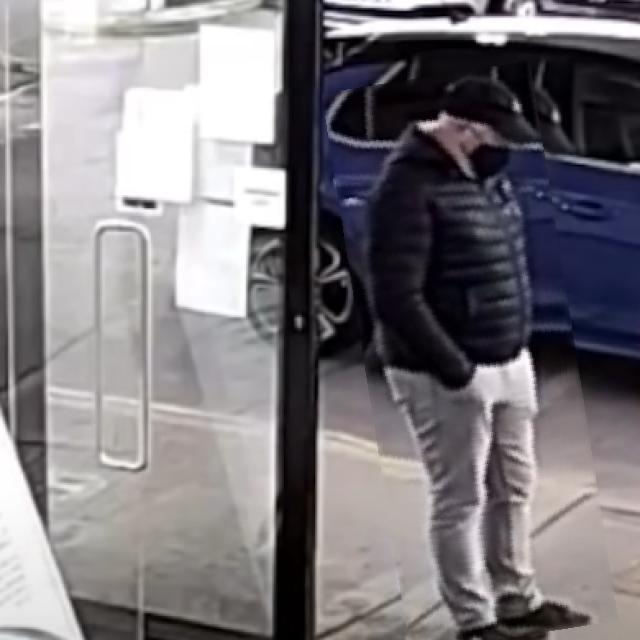Jacket_Wearer: (377, 124, 554, 376)
Person: (364, 68, 561, 623)
